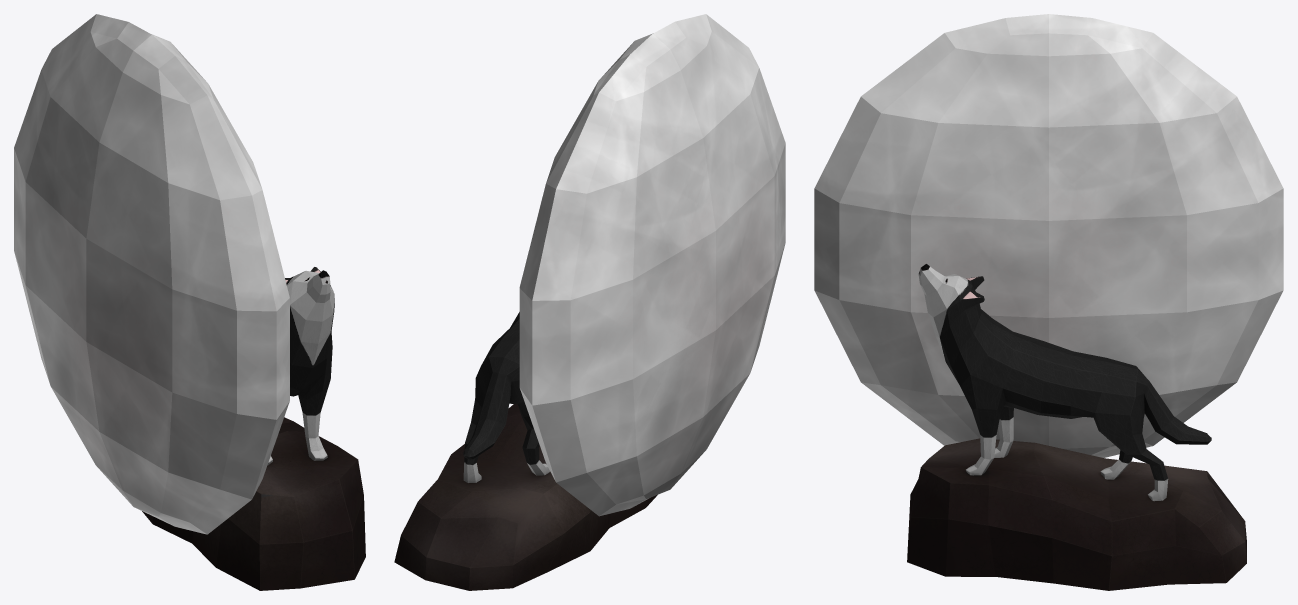
The model's file is WolfAndMoon.obj.
3 renders of one model, left to right at view 1: azimuth 30°, elevation 25°; view 2: azimuth 150°, elevation 25°; view 3: azimuth 270°, elevation 25°, orthographic. The views are drawn at different scales.
Bounding box in the file's own units: 9.01 × 17.56 × 15.24.
1 material, 1 textured.
